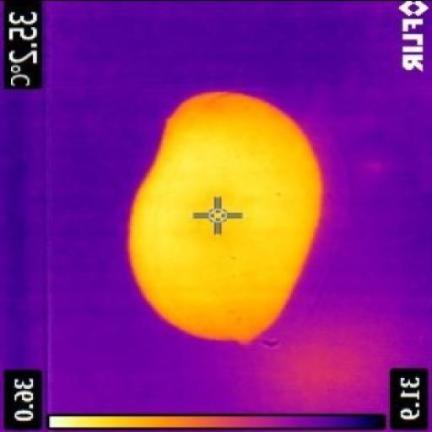mango: (128, 92, 320, 341)
